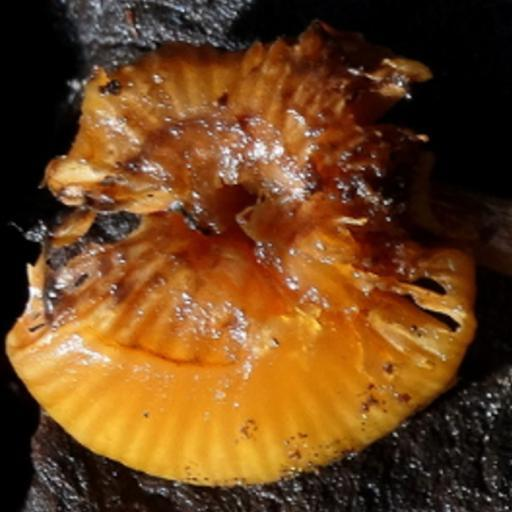mushroom: (17, 33, 479, 483)
